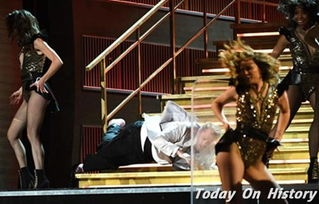falling: (72, 95, 223, 177)
